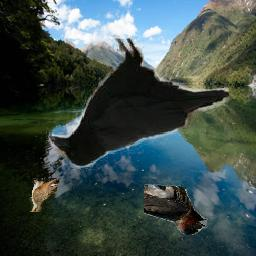Crow: (43, 36, 229, 175)
Cuckoo: (29, 178, 57, 212)
Swallow: (144, 185, 208, 236)
